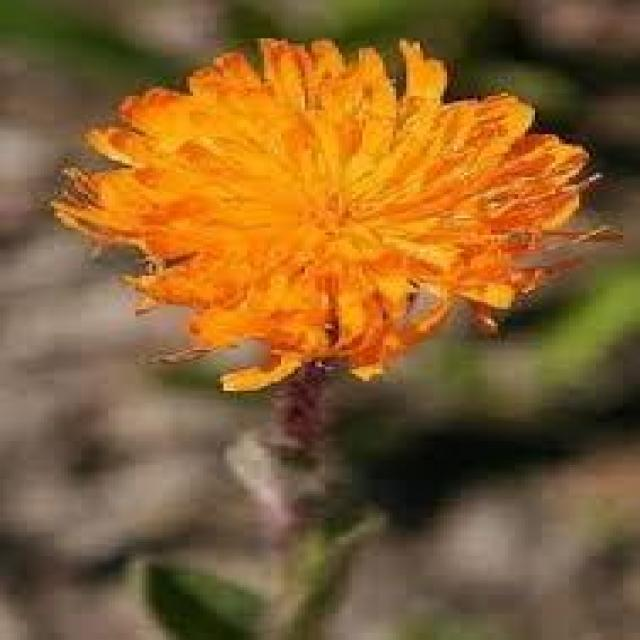organic waste: (48, 31, 600, 376)
